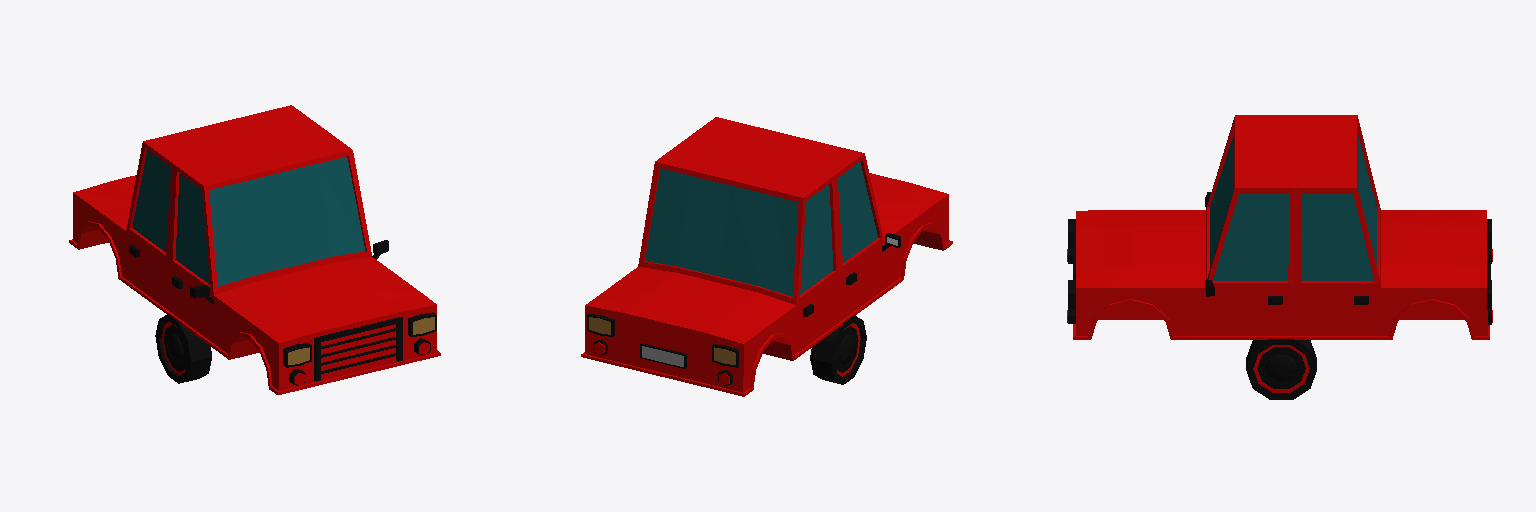
Rendered from car7.obj.
3 views of the same model, side by side, from view 1: azimuth 30°, elevation 25°; view 2: azimuth 150°, elevation 25°; view 3: azimuth 270°, elevation 25° (orthographic).
Visible parts, largest first — view 1: Cube.001, Cube; view 2: Cube.001, Cube; view 3: Cube.001, Cube.
Boxes of the visible parts, box(x1,y1,x2,y2) form: Cube.001: box(69, 105, 440, 394); Cube: box(155, 314, 211, 383); Cube.001: box(581, 117, 952, 396); Cube: box(810, 315, 866, 384); Cube.001: box(1067, 115, 1492, 339); Cube: box(1246, 339, 1316, 399).
Bounding box in the file's own units: 3.39 × 3.43 × 6.35.